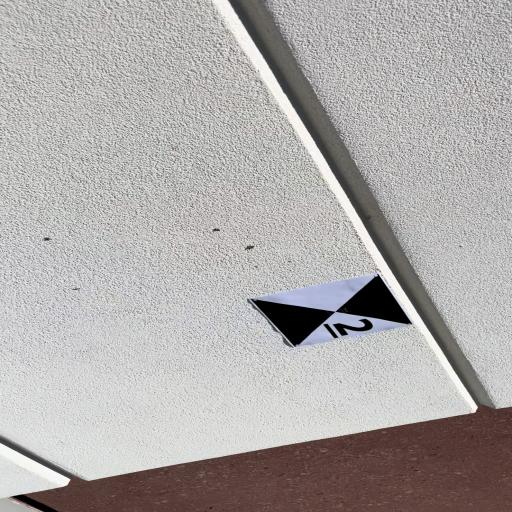target2: (248, 269, 416, 346)
